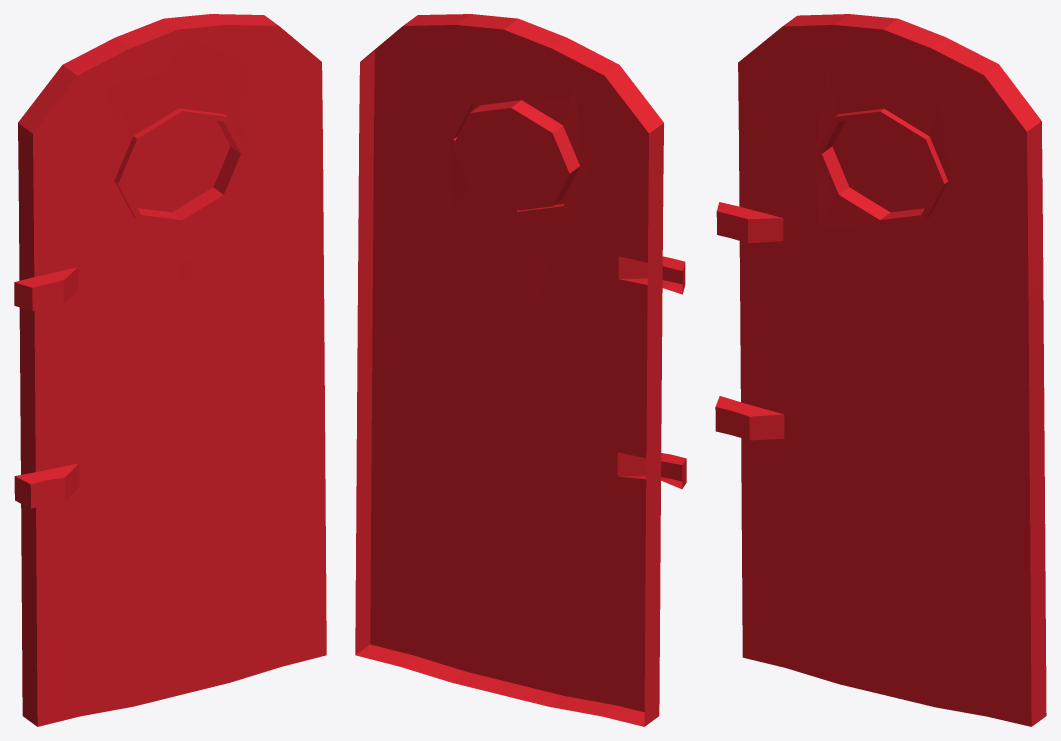
The model's file is SM_deur.fbx.
The picture shows the model from 3 angles, left to right: view 1: azimuth 30°, elevation 25°; view 2: azimuth 150°, elevation 25°; view 3: azimuth 330°, elevation 25°; orthographic projection.
Visible parts, largest first — view 1: deuren_UV.001; view 2: deuren_UV.001; view 3: deuren_UV.001.
Part boxes in pixels (x1,y1,x2,y2): deuren_UV.001: [14, 14, 326, 726]; deuren_UV.001: [355, 14, 686, 726]; deuren_UV.001: [715, 14, 1046, 726].
Size of the model in its own units: 98.2 by 200 by 13.78.
